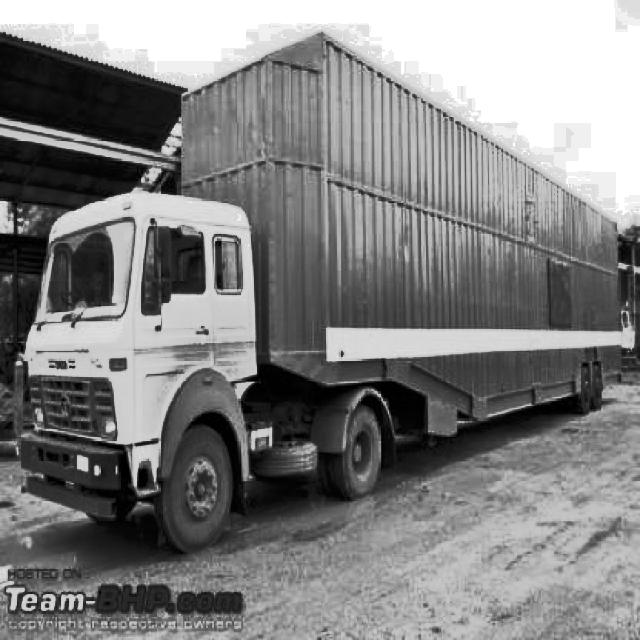HCV: (74, 100, 639, 439)
